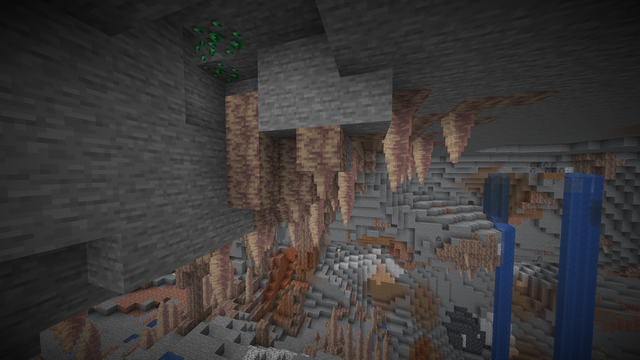emerald: (186, 19, 245, 84)
